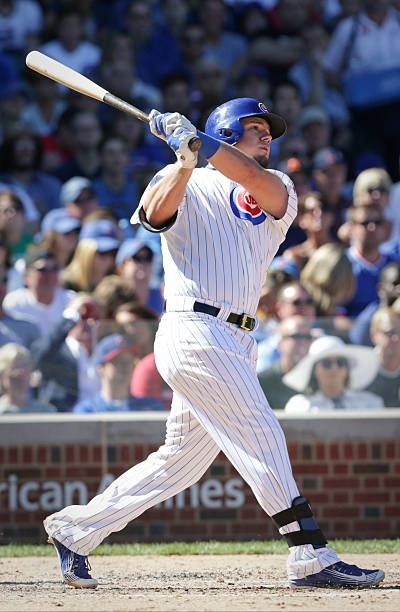bita: (21, 49, 199, 142)
